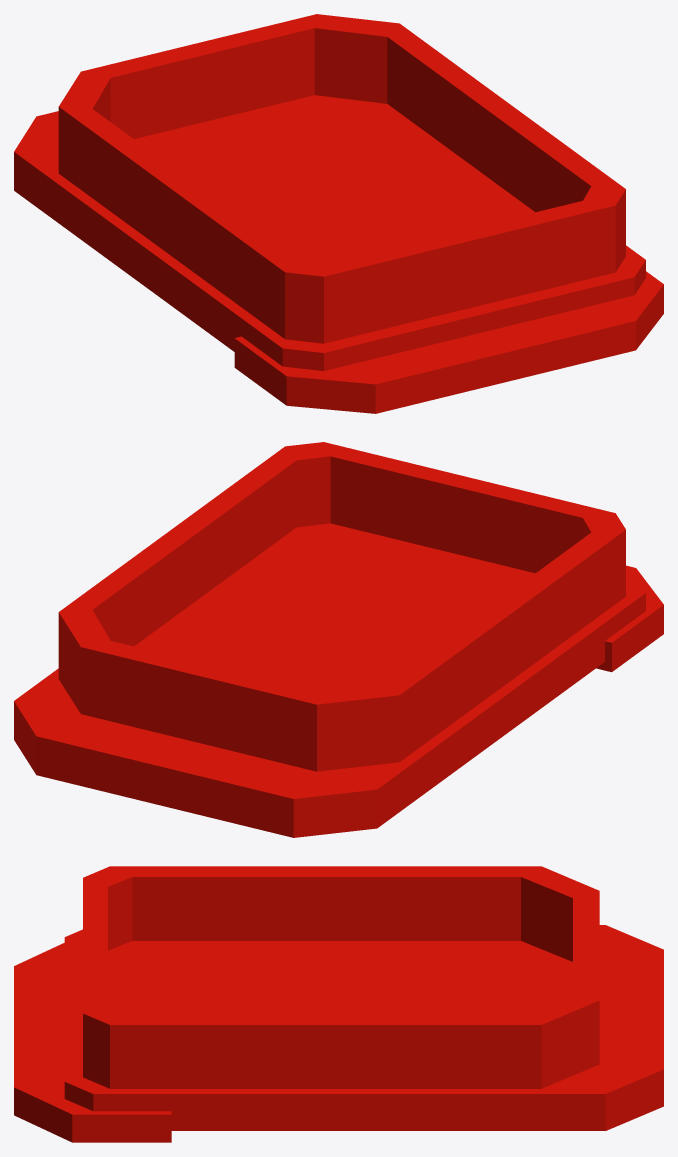
The model's file is cart_collision.fbx.
3 renders of one model, top to bottom at view 1: azimuth 30°, elevation 25°; view 2: azimuth 150°, elevation 25°; view 3: azimuth 270°, elevation 25°, orthographic. The views are drawn at different scales.
Parts seen in each view (by area): view 1: Cube.001; view 2: Cube.001; view 3: Cube.001.
Boxes of the visible parts, x1,y1,x2,y2 form: Cube.001: [14, 14, 663, 413]; Cube.001: [14, 442, 663, 837]; Cube.001: [14, 866, 663, 1142].
Size of the model in its own units: 215 by 137 by 39.86.
